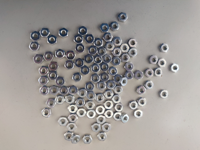nut: (29, 42, 40, 52), (30, 31, 41, 41), (47, 35, 58, 45), (58, 28, 69, 38), (41, 108, 52, 118), (68, 114, 79, 124), (74, 35, 85, 45), (78, 26, 88, 36), (100, 23, 110, 33), (110, 22, 120, 32), (44, 52, 54, 62), (39, 77, 49, 87), (39, 66, 49, 76), (55, 77, 65, 87), (58, 117, 68, 127), (67, 123, 77, 133), (87, 110, 97, 120), (83, 135, 93, 145), (73, 73, 83, 83), (69, 86, 79, 96), (39, 86, 49, 96), (55, 95, 65, 105), (66, 51, 76, 61), (134, 71, 144, 81), (170, 63, 180, 73), (71, 135, 81, 145), (85, 34, 95, 44), (33, 55, 44, 64), (97, 133, 108, 142), (96, 116, 107, 125), (86, 92, 97, 101), (85, 83, 96, 92), (46, 99, 57, 108), (75, 44, 86, 53), (40, 29, 50, 38), (118, 13, 128, 22), (137, 86, 146, 96), (77, 109, 87, 118), (68, 105, 78, 114), (104, 101, 114, 110), (97, 82, 107, 91), (81, 67, 91, 76), (65, 61, 75, 70), (55, 50, 65, 59), (103, 33, 113, 42), (88, 47, 98, 56), (112, 57, 122, 66), (108, 67, 118, 76), (124, 63, 134, 72), (105, 42, 115, 51), (91, 64, 101, 73), (91, 74, 101, 83), (100, 73, 110, 82), (104, 90, 114, 99), (115, 103, 124, 113), (121, 114, 130, 124), (129, 101, 138, 111), (64, 133, 74, 142), (129, 48, 138, 58), (49, 62, 59, 71), (112, 95, 122, 104), (50, 86, 59, 96), (103, 54, 112, 64), (76, 98, 86, 107), (102, 124, 112, 133), (89, 46, 98, 56), (95, 94, 105, 103), (78, 89, 88, 98), (98, 47, 107, 57), (135, 110, 144, 119), (114, 113, 123, 122), (138, 98, 147, 107), (160, 90, 169, 99), (145, 81, 154, 90), (150, 56, 159, 65), (129, 39, 138, 48), (114, 86, 123, 95), (113, 37, 122, 46), (96, 106, 105, 115), (113, 48, 122, 57), (121, 44, 130, 53), (85, 55, 94, 64), (119, 77, 128, 86), (94, 55, 103, 64), (66, 96, 75, 105), (86, 101, 95, 110), (160, 44, 170, 52), (95, 38, 103, 48), (126, 71, 134, 80), (92, 124, 101, 132), (146, 69, 154, 78), (155, 68, 163, 77), (76, 59, 84, 68), (101, 64, 110, 72), (60, 86, 68, 95), (107, 81, 116, 89), (105, 110, 114, 118), (159, 59, 167, 67), (122, 54, 130, 62), (50, 73, 57, 80)
